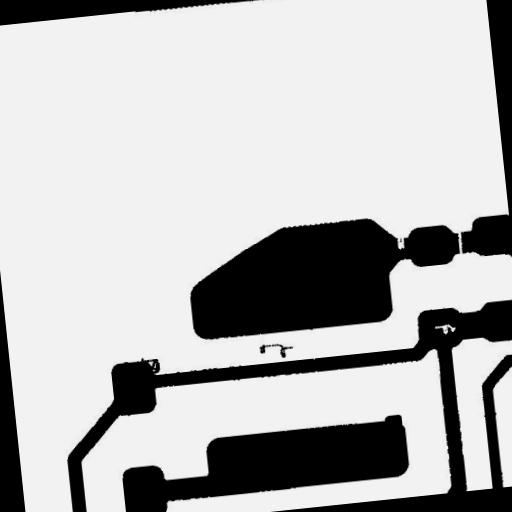copper: (251, 333, 302, 368)
mousebite: (388, 229, 412, 258)
open: (449, 221, 472, 268)
pin-hole: (426, 314, 464, 344)
short: (503, 322, 512, 373)
spur: (132, 348, 168, 382), (376, 406, 410, 436)
